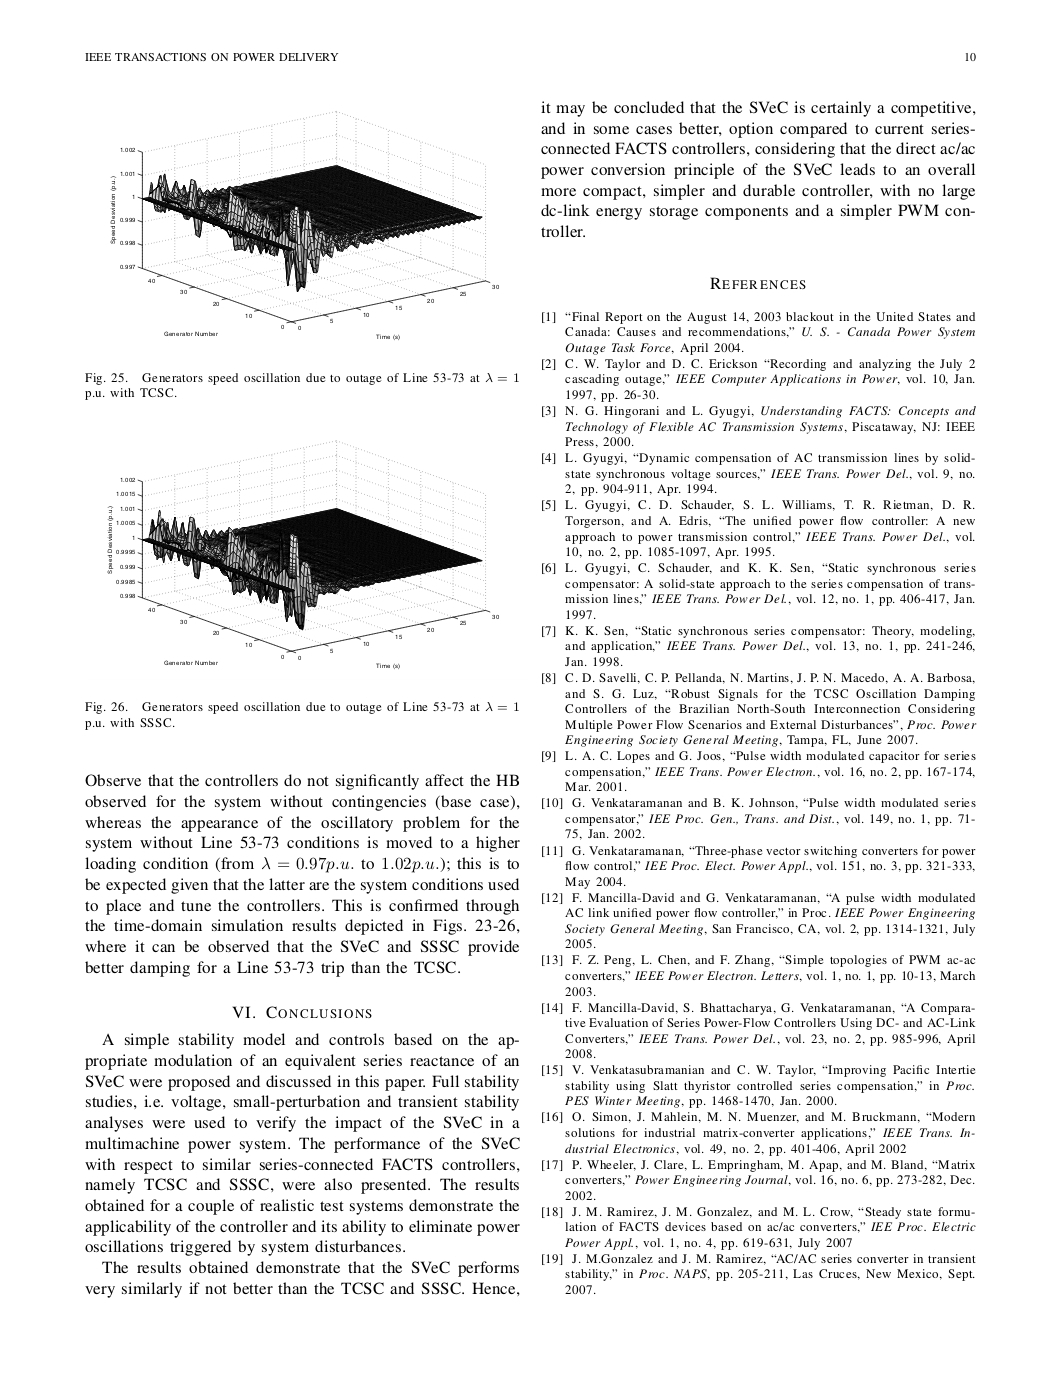figure: (107, 439, 498, 670), (110, 110, 498, 341)
